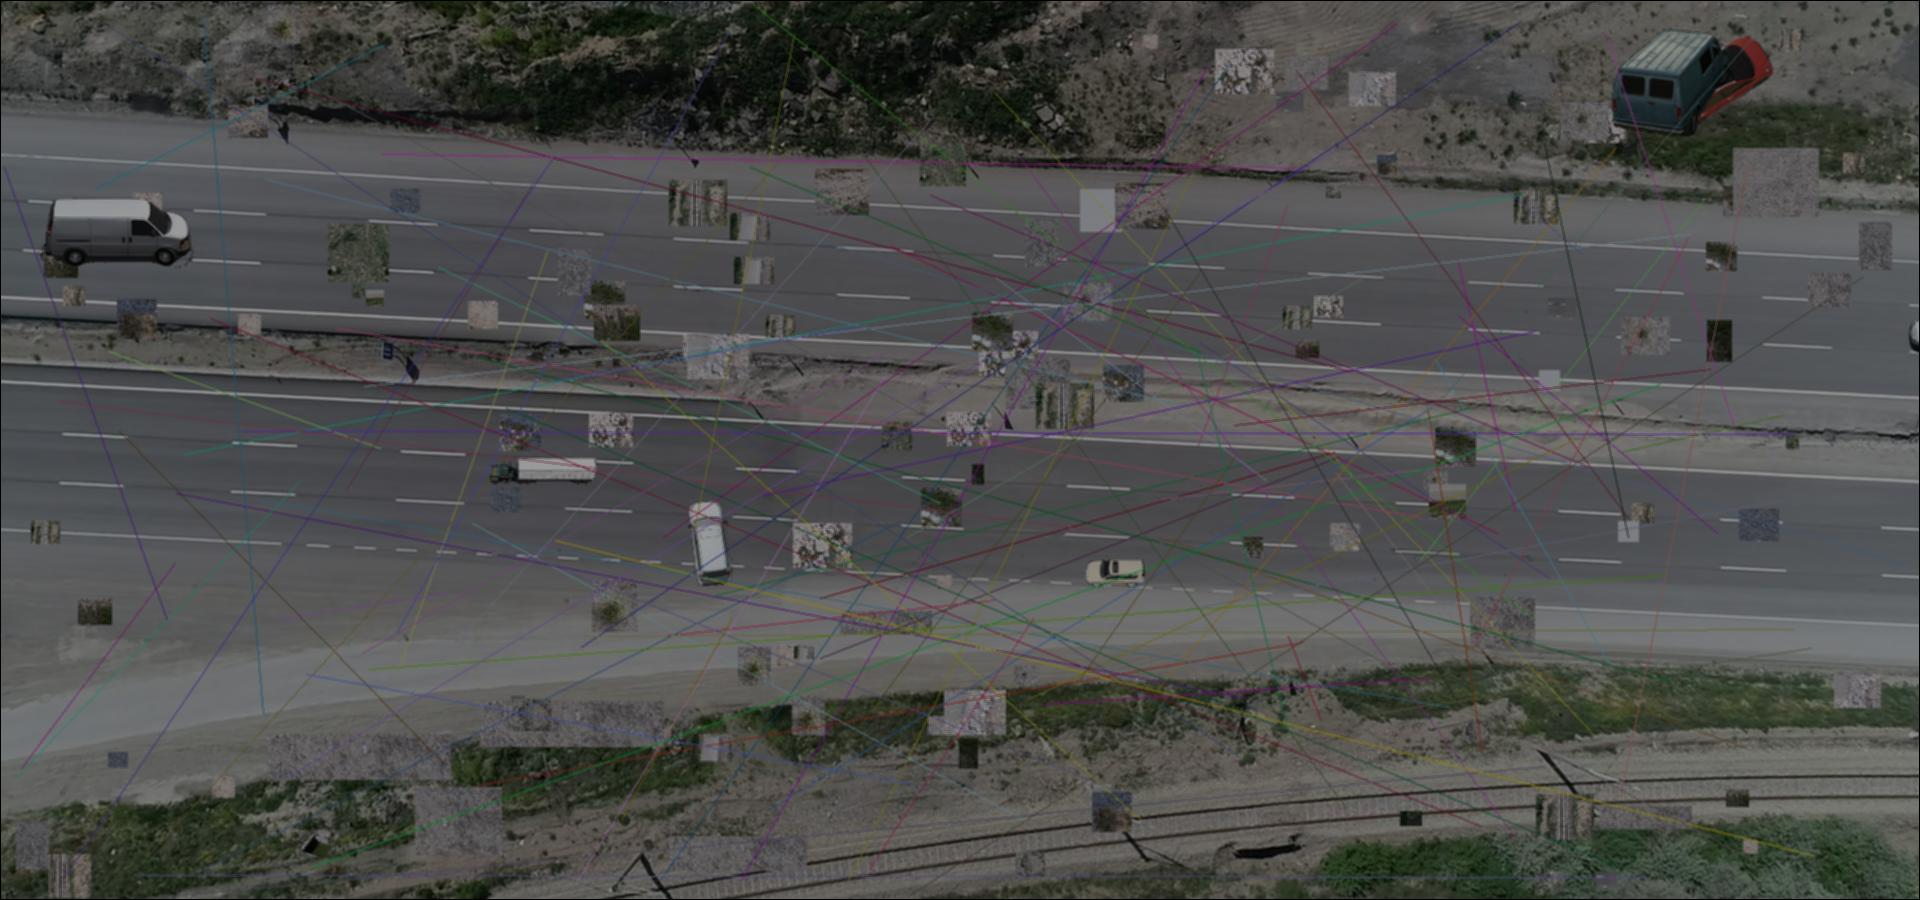arac: (1608, 23, 1734, 136), (1656, 34, 1776, 135), (36, 197, 197, 268), (688, 501, 733, 588), (490, 456, 598, 485), (1082, 557, 1149, 587)
